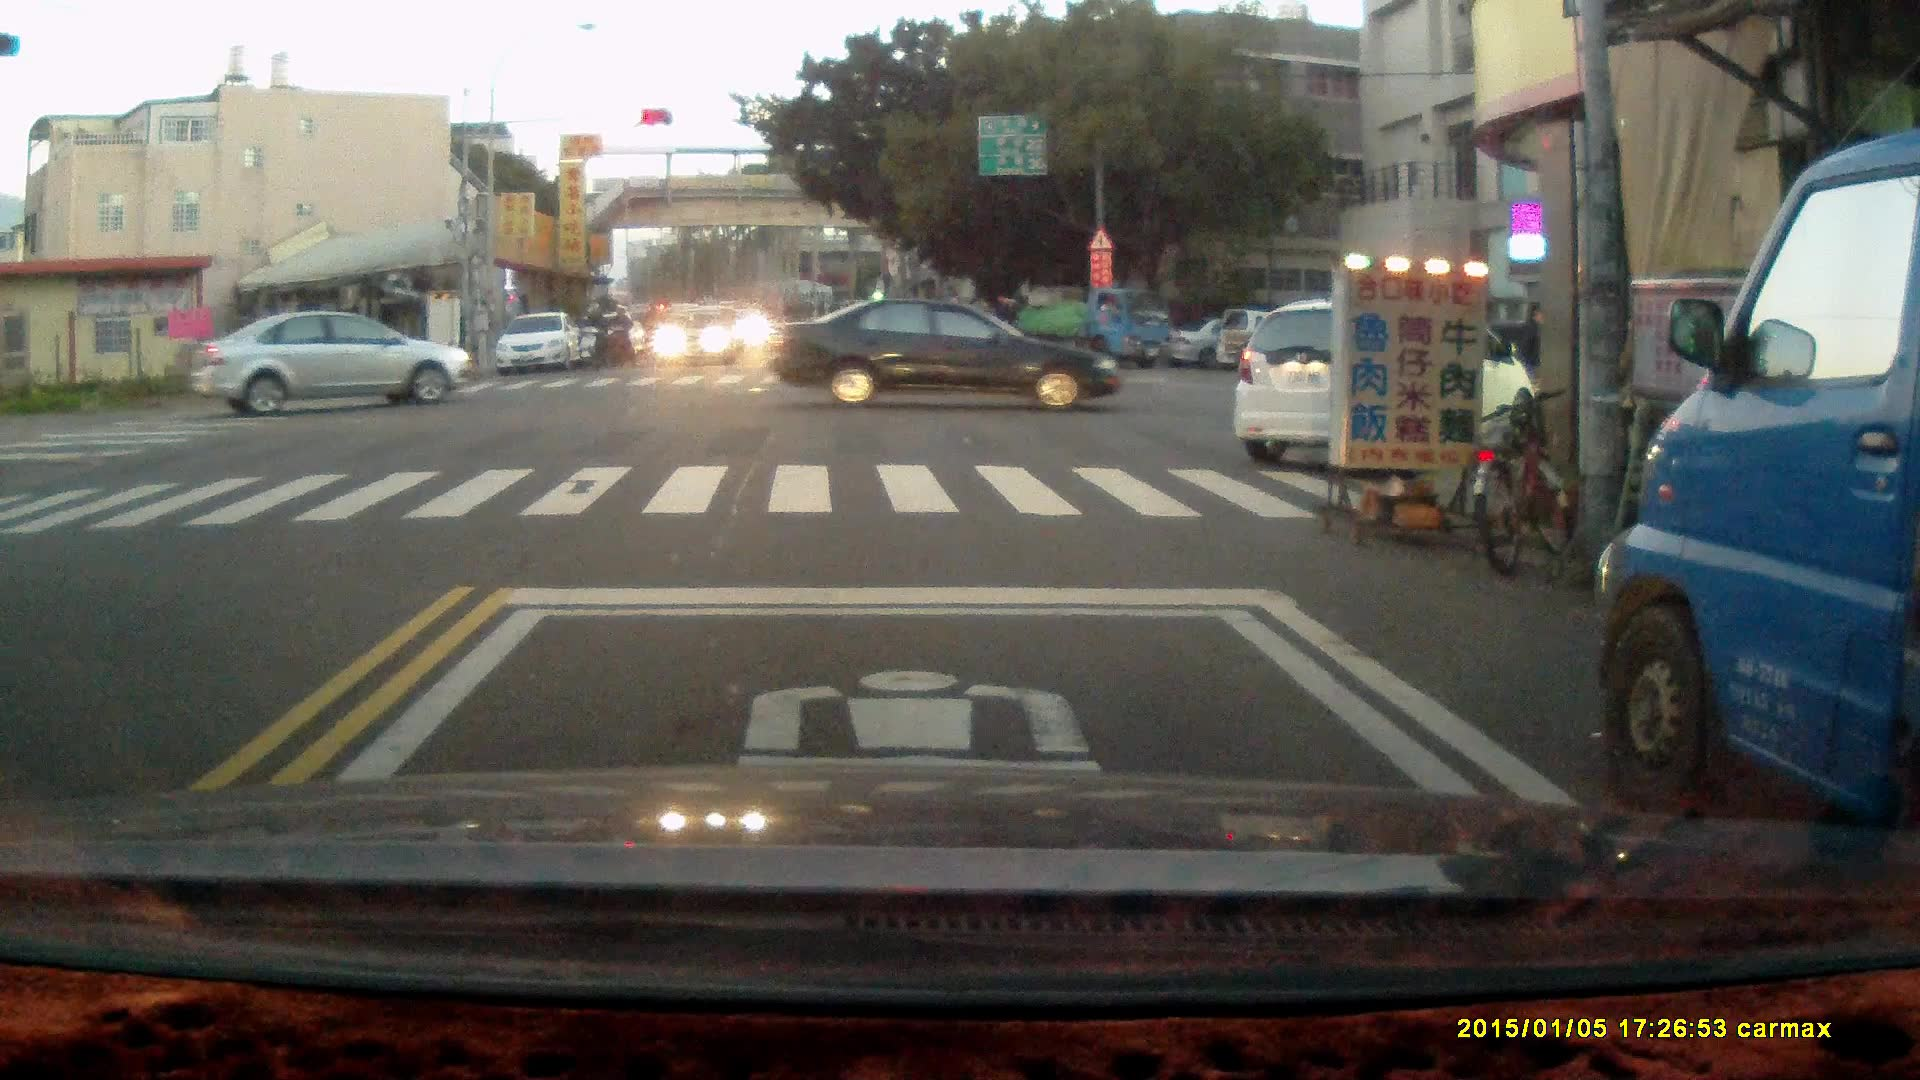pedestrian: (1511, 296, 1546, 379)
rider: (576, 301, 608, 367), (603, 300, 633, 365)
vehicle: (1598, 132, 1920, 844), (1233, 296, 1533, 459), (769, 297, 1129, 411), (189, 313, 466, 415), (1002, 284, 1179, 367), (496, 313, 586, 377)
